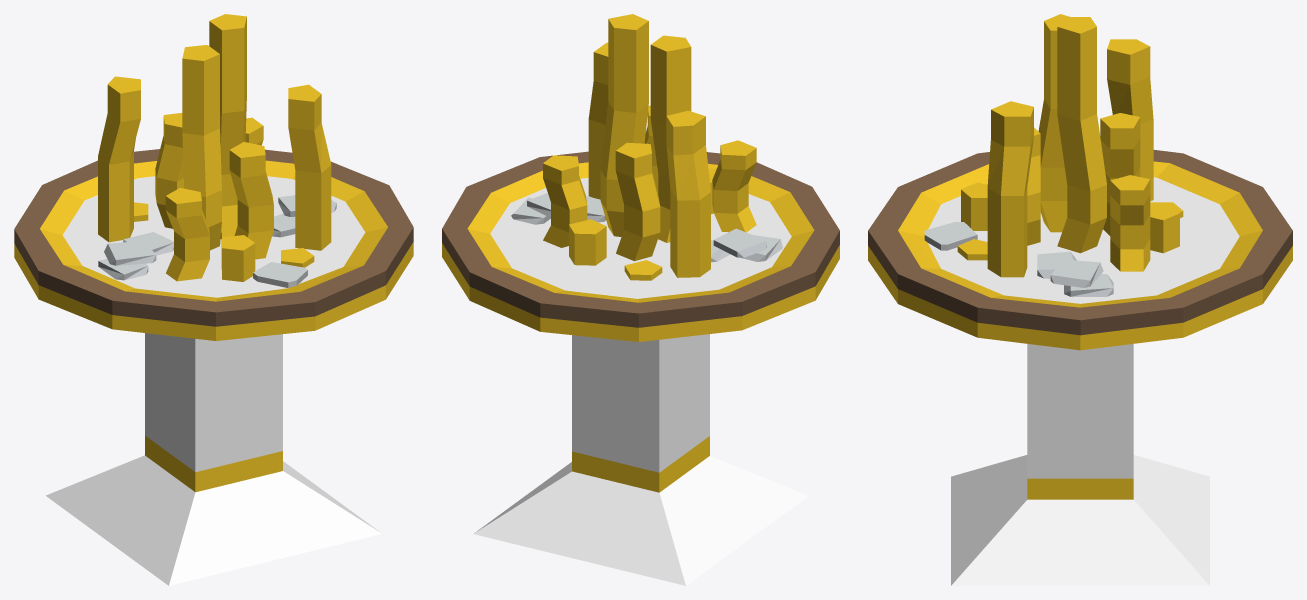
File: mounted-coins.gltf
The picture shows the model from 3 angles, left to right: view 1: azimuth 30°, elevation 25°; view 2: azimuth 150°, elevation 25°; view 3: azimuth 270°, elevation 25°; orthographic projection. The views are drawn at different scales.
Bounding box in the file's own units: 128 × 171 × 128.
1 material, 1 textured.
